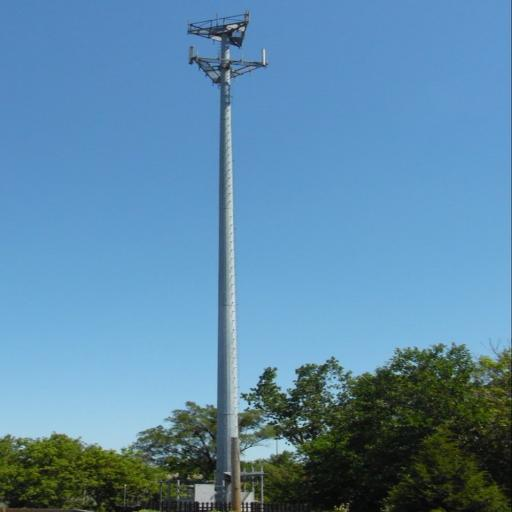monopole_tower: (187, 9, 272, 510)
